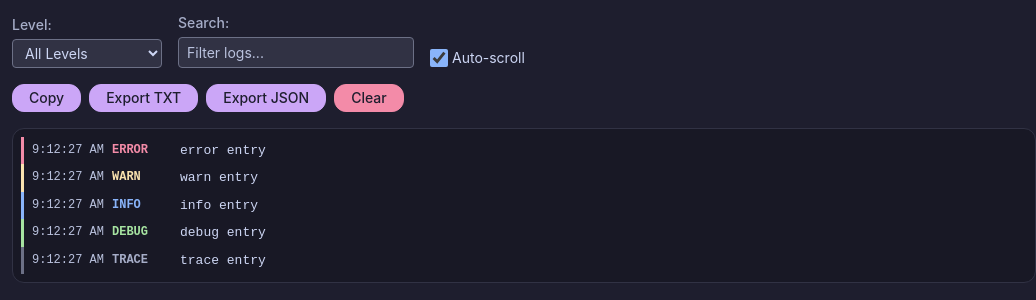
Test case: LogsViewer › NIT-10: level filtering › switching back to 'all' restores every entry
This screenshot has width=1036, height=300.
Select "Errors" in the dropdown labelled "Level:" at coordinates (87, 54), box [12, 39, 162, 68]
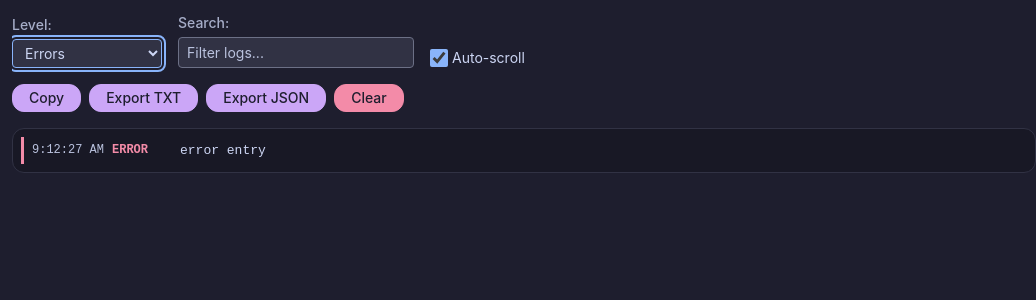
Check: the number of elements with class "log-entry" is 1, box [21, 136, 1027, 164]
Select "All Levels" in the dropdown labelled "Level:" at coordinates (87, 54), box [12, 39, 162, 68]
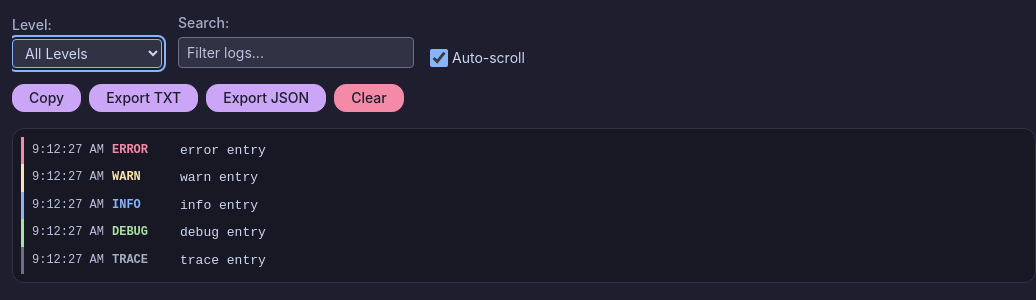
Check: the number of elements with class "log-entry" is 5, box [21, 136, 1027, 164]; [21, 164, 1027, 192]; [21, 192, 1027, 219]; [21, 219, 1027, 246]; [21, 247, 1027, 274]
